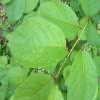Cherry leaf: (5, 18, 69, 71), (36, 1, 82, 39), (68, 48, 99, 99), (12, 71, 55, 99)
